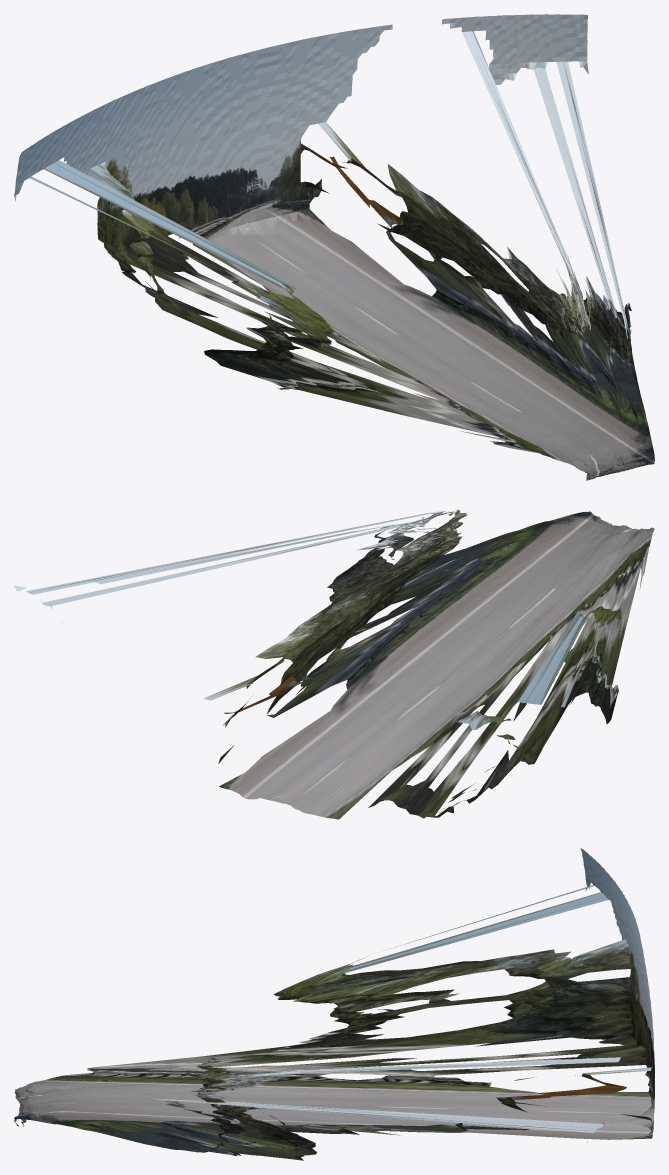
3 views of the same model, one above another, from view 1: azimuth 30°, elevation 25°; view 2: azimuth 150°, elevation 25°; view 3: azimuth 270°, elevation 25° (orthographic). The views are drawn at different scales.
Visible parts, largest first — view 1: defaultobject; view 2: defaultobject; view 3: defaultobject.
Part boxes in pixels (<box>): defaultobject: <box>14,14,654,480</box>; defaultobject: <box>14,509,654,819</box>; defaultobject: <box>14,848,654,1160</box>.
Size of the model in its own units: 40.94 by 12.47 by 44.46.
Materials: 1 (1 with a texture image).
